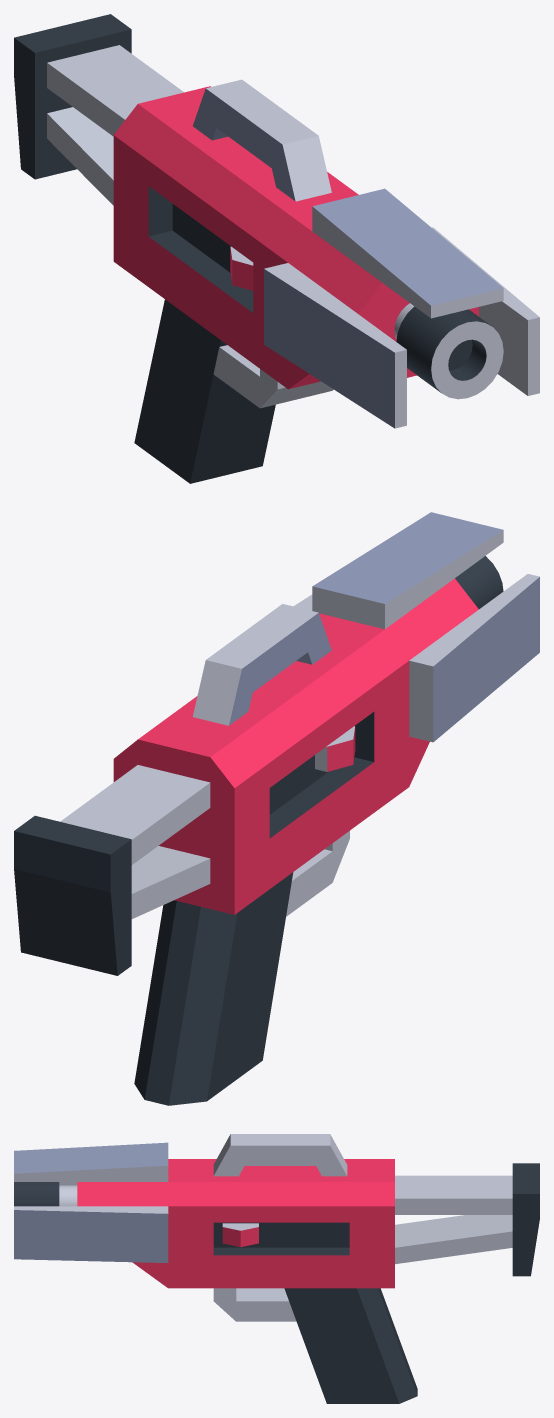
The model's file is blasterN.glb.
3 views of the same model, one above another, from view 1: azimuth 30°, elevation 25°; view 2: azimuth 150°, elevation 25°; view 3: azimuth 270°, elevation 25° (orthographic). The views are drawn at different scales.
Visible parts, largest first — view 1: blasterN; view 2: blasterN; view 3: blasterN.
Boxes of the visible parts, <box> form: blasterN: <box>14,14,539,483</box>; blasterN: <box>14,512,539,1105</box>; blasterN: <box>14,1134,539,1403</box>.
Bounding box in the file's own units: 0.14 × 0.3075 × 0.58.
